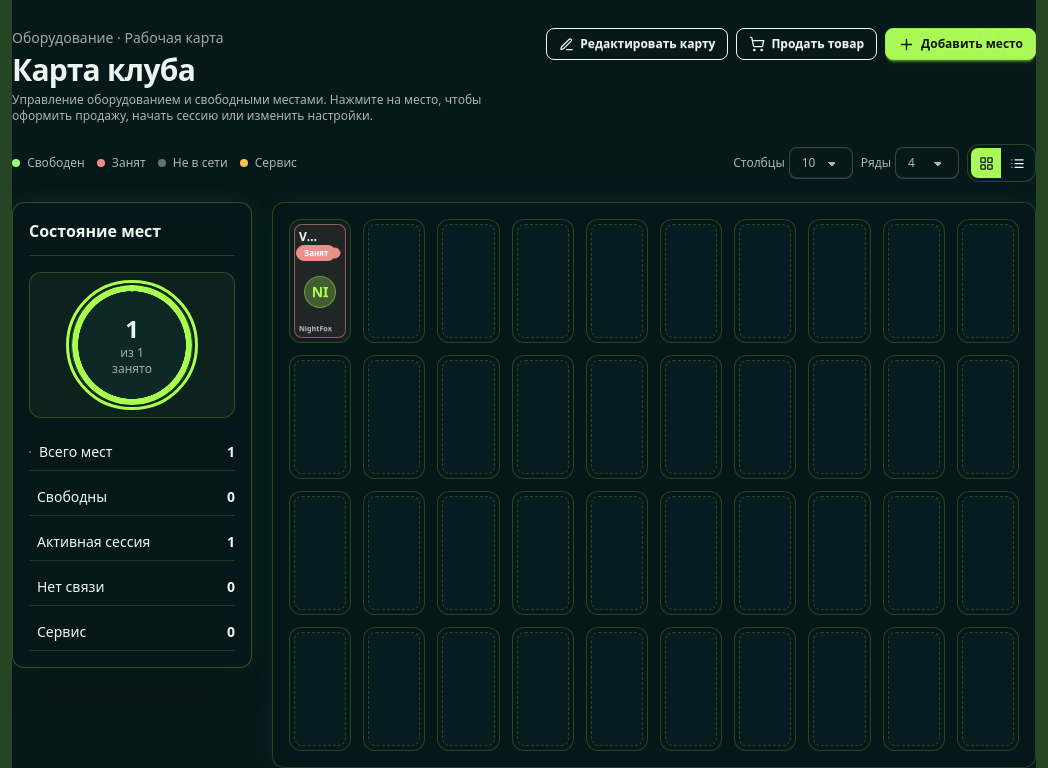
Test: Карта игровых мест › показывает hover-карточку server snapshot для занятого места
Hover over the button with aria-label "VIP-02: Занят": (320, 281) [294,224,346,338]
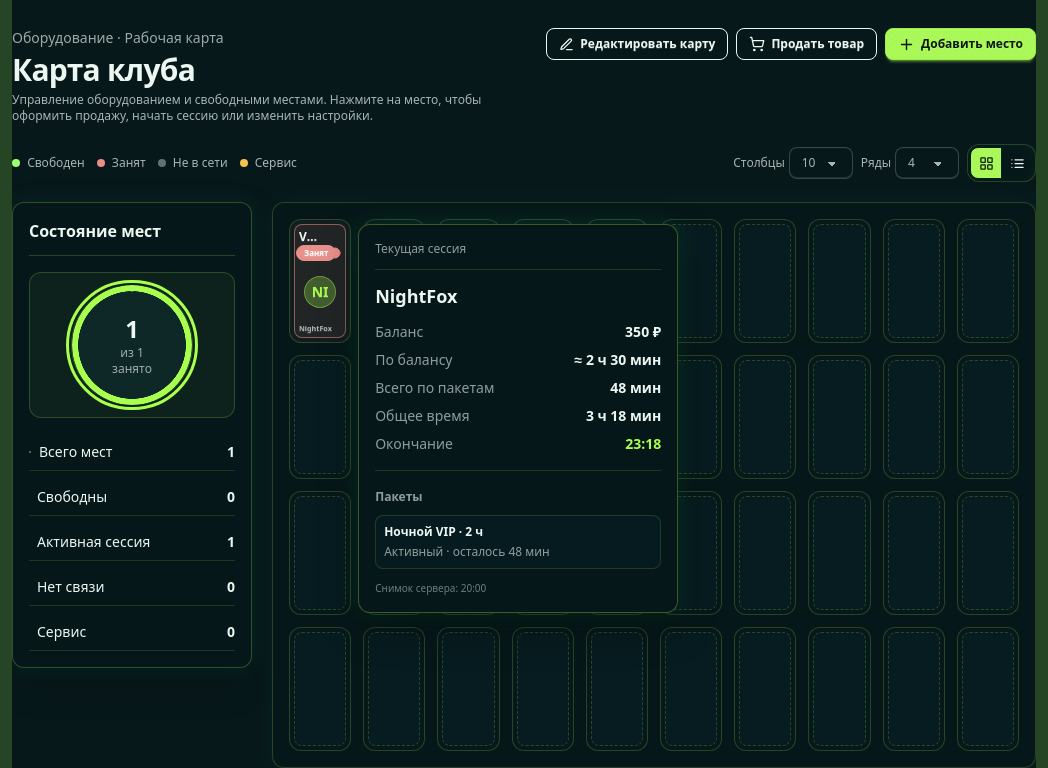
Expected: the tooltip shows "NightFox", [375,284,457,308]
Expected: the tooltip shows "Ночной VIP · 2 ч", [384,523,483,540]
Expected: the tooltip shows "осталось 48 мин", [358,224,678,613]
Move the pointer off the button with aria-label "VIP-02: Занят", box [294,224,346,338]
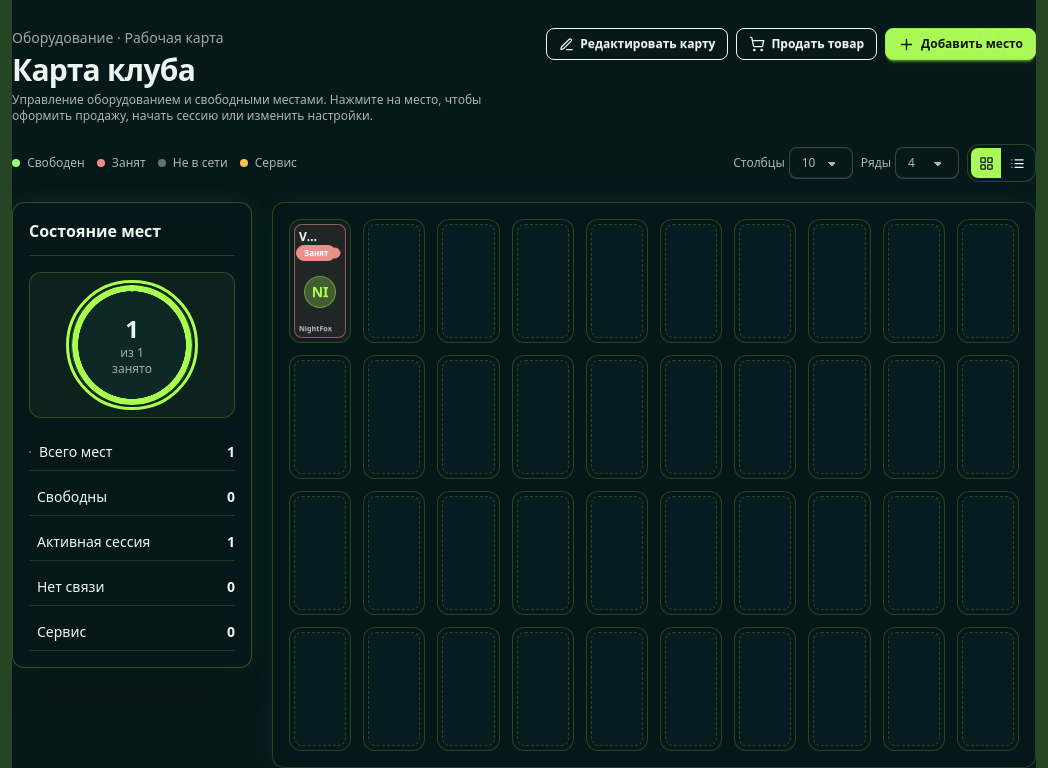
Expected: the tooltip is gone
